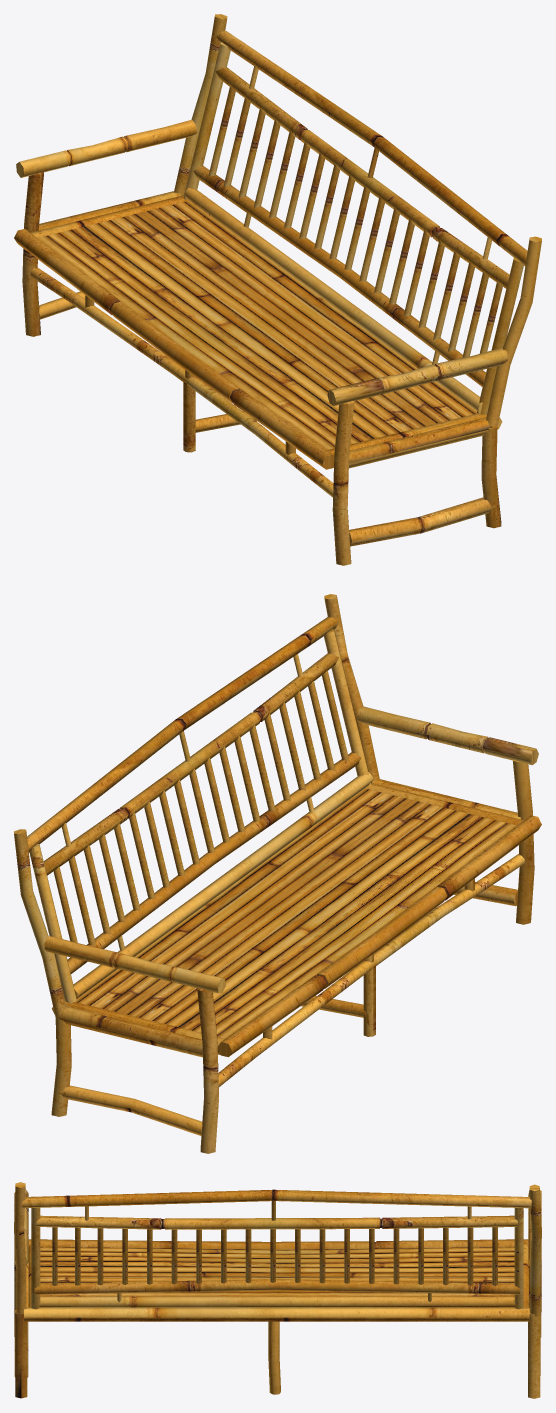
Rendered from bamboo_bench.glb.
The picture shows the model from 3 angles, top to bottom: view 1: azimuth 30°, elevation 25°; view 2: azimuth 150°, elevation 25°; view 3: azimuth 270°, elevation 25°; orthographic projection. The views are drawn at different scales.
Parts seen in each view (by area): view 1: Box001, Cylinder005, Cylinder015, Cylinder014, Cylinder044, Cylinder013, Cylinder009, Cylinder052, Cylinder081, Cylinder003, Cylinder008, Cylinder053 (+23 smaller); view 2: Box001, Cylinder005, Cylinder015, Cylinder014, Cylinder044, Cylinder013, Cylinder009, Cylinder052, Cylinder081, Cylinder007, Cylinder004, Cylinder049 (+24 smaller); view 3: Box001, Cylinder006, Cylinder015, Cylinder044, Cylinder014, Cylinder013, Cylinder005, Cylinder049, Cylinder050, Cylinder001, Cylinder002, Cylinder042 (+24 smaller).
Part boxes in pixels (<box>): Box001: <box>38,201,477,449</box>; Cylinder005: <box>14,229,334,469</box>; Cylinder015: <box>216,31,527,266</box>; Cylinder014: <box>215,67,509,288</box>; Cylinder044: <box>184,187,482,413</box>; Cylinder013: <box>193,165,485,386</box>; Cylinder009: <box>30,268,333,497</box>; Cylinder052: <box>327,347,508,405</box>; Cylinder081: <box>16,119,196,177</box>; Cylinder003: <box>332,401,354,565</box>; Cylinder008: <box>349,417,492,468</box>; Cylinder053: <box>349,497,495,546</box>; Box001: <box>75,788,516,1038</box>; Cylinder005: <box>217,815,541,1057</box>; Cylinder015: <box>27,617,338,852</box>; Cylinder014: <box>43,653,338,875</box>; Cylinder044: <box>73,772,372,998</box>; Cylinder013: <box>67,752,361,973</box>; Cylinder009: <box>218,854,524,1086</box>; Cylinder052: <box>357,706,538,765</box>; Cylinder081: <box>44,936,225,993</box>; Cylinder007: <box>59,1006,207,1057</box>; Cylinder004: <box>197,988,218,1153</box>; Cylinder049: <box>14,829,66,1019</box>; Box001: <box>40,1247,514,1296</box>; Cylinder006: <box>24,1307,529,1321</box>; Cylinder015: <box>22,1189,531,1208</box>; Cylinder044: <box>33,1296,516,1307</box>; Cylinder014: <box>36,1215,517,1229</box>; Cylinder013: <box>34,1279,519,1294</box>; Cylinder005: <box>28,1239,528,1249</box>; Cylinder049: <box>529,1184,541,1316</box>; Cylinder050: <box>14,1182,26,1314</box>; Cylinder001: <box>528,1313,540,1398</box>; Cylinder002: <box>15,1310,27,1398</box>; Cylinder042: <box>514,1208,523,1309</box>.
Size of the model in its own units: 1.01 by 1.22 by 2.57.
Materials: 1 (1 with a texture image).
